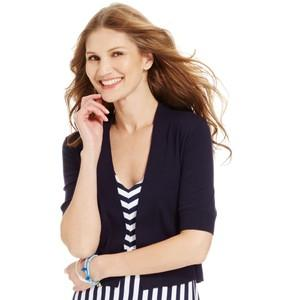C_cardigan sweater: (51, 106, 237, 281)
